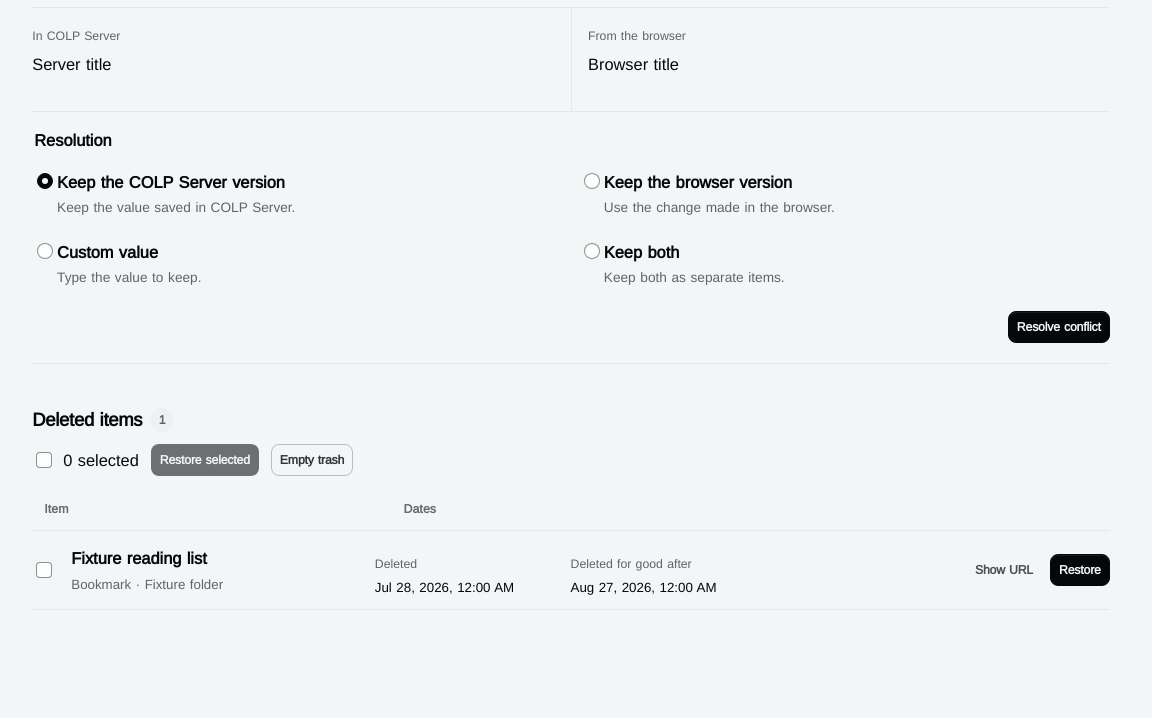
Test case: KNS-11 Sync Center trash › restores with If-Match from revision and then shows only the server receipt
This screenshot has width=1152, height=718.
(page scrolled)
Click the button "Restore" at (1080, 570), box [1050,554,1110,586]
(page scrolled)
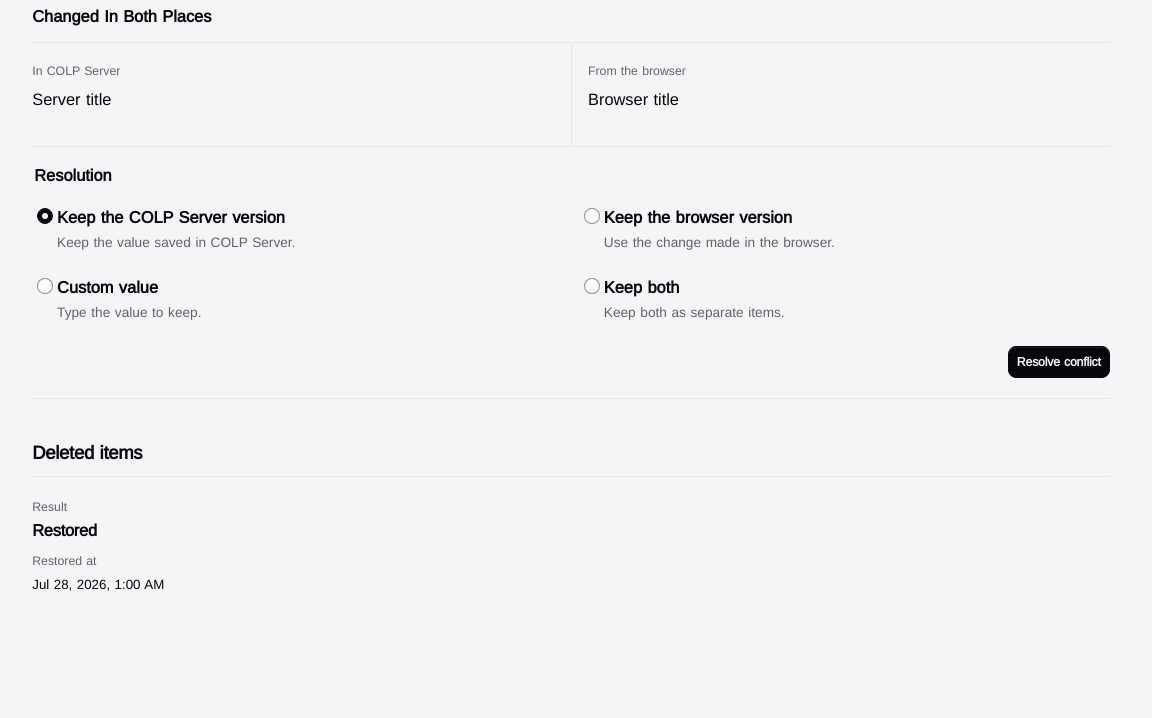
Result: the text "Result" is shown at [32,499,67,514]
Result: the text "Restored at" is shown at [32,553,97,568]
Result: the text "Fixture reading list" is gone
